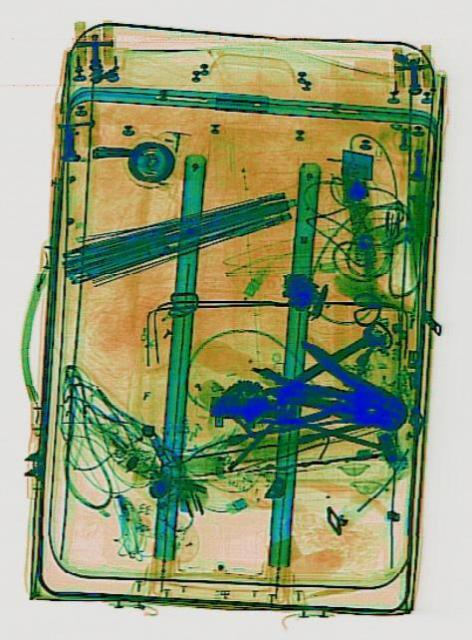Pliers: (280, 336, 415, 448)
Wrench: (290, 314, 387, 392)
